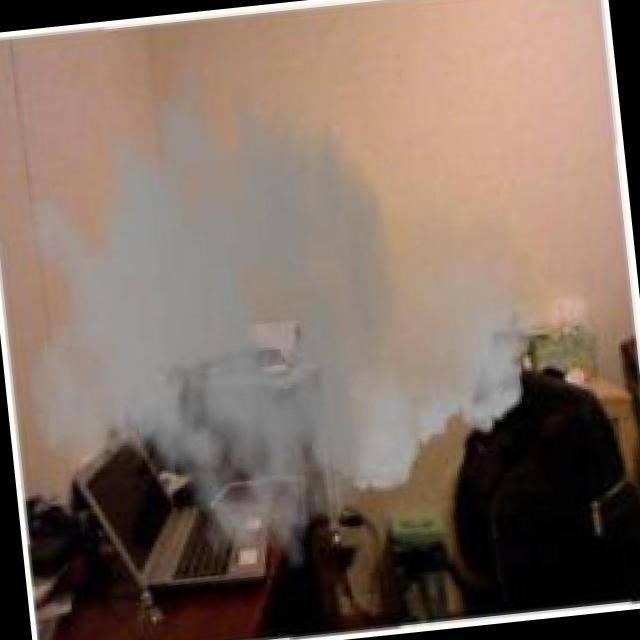Smoke: (0, 0, 567, 595)
